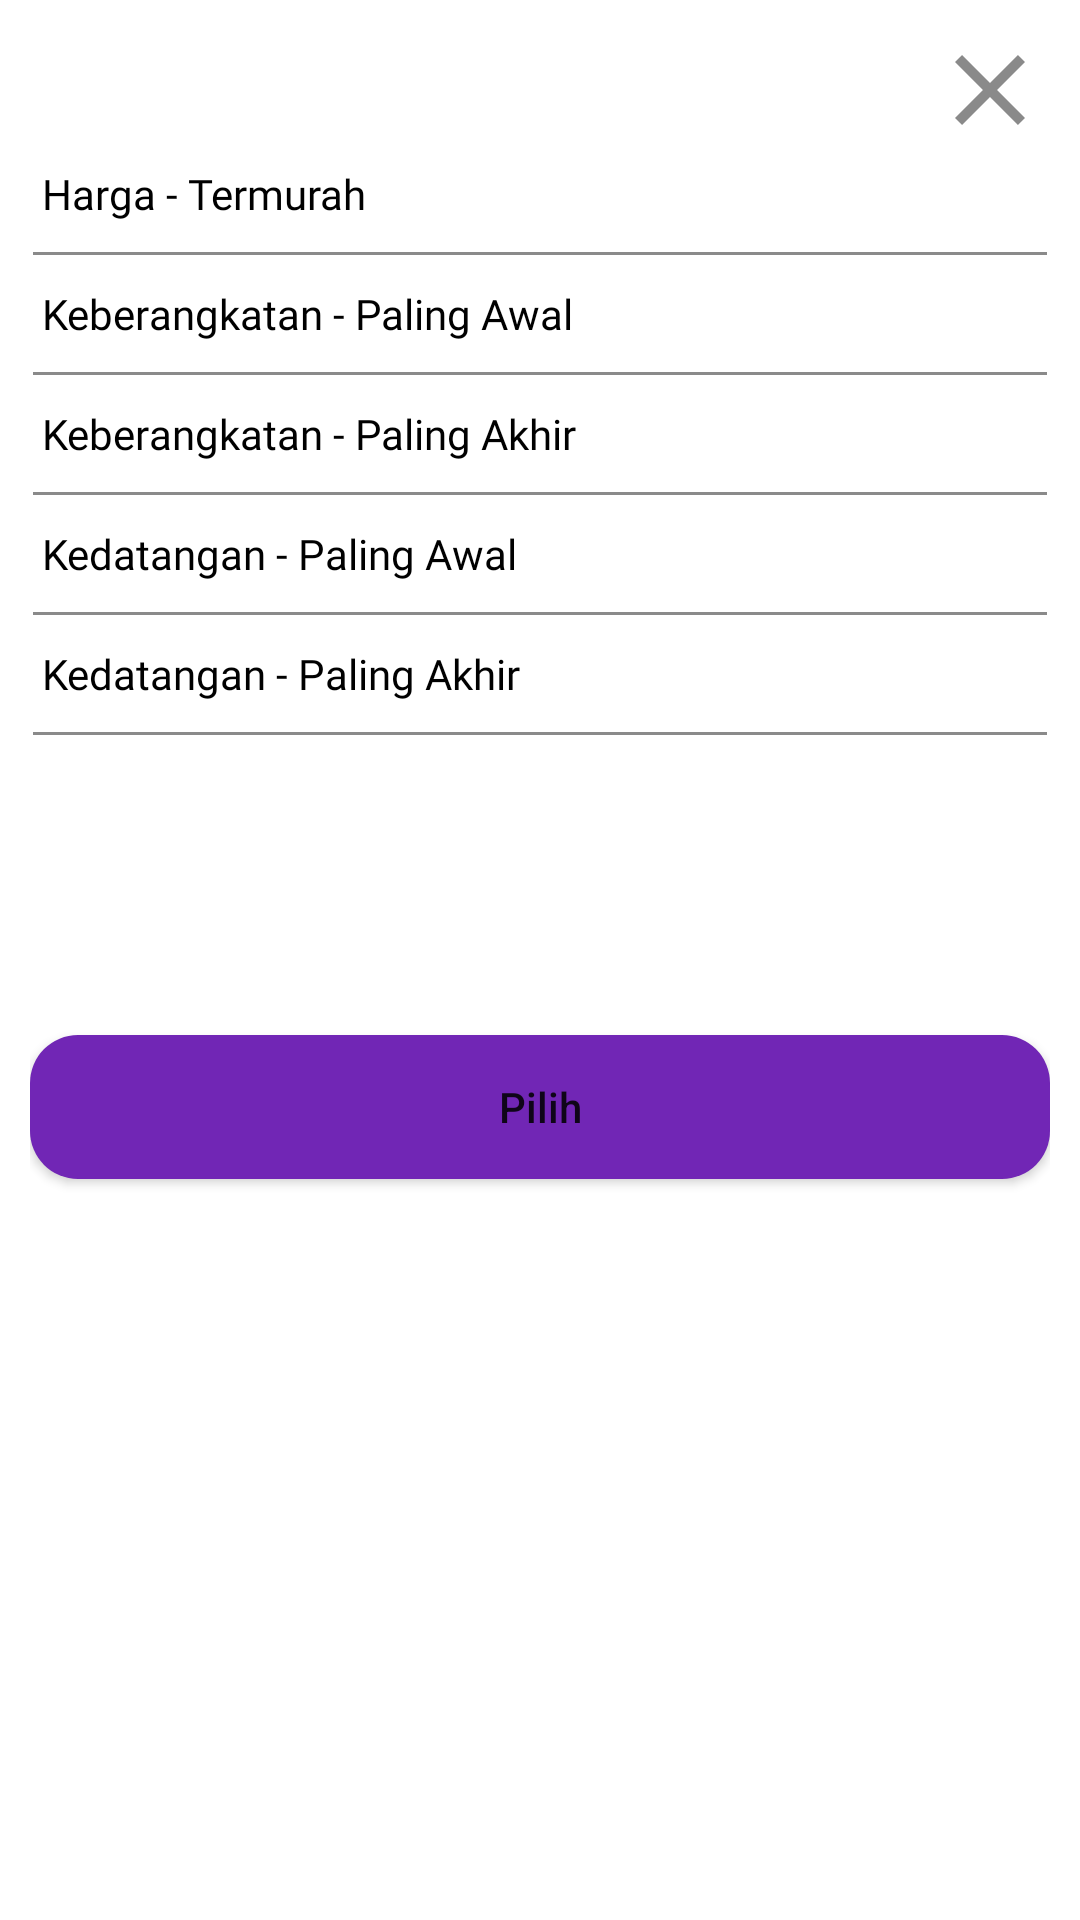

Named icons in this screenshot (1080 x 1920) and their centers, [x,y]:
close: [990,90]
